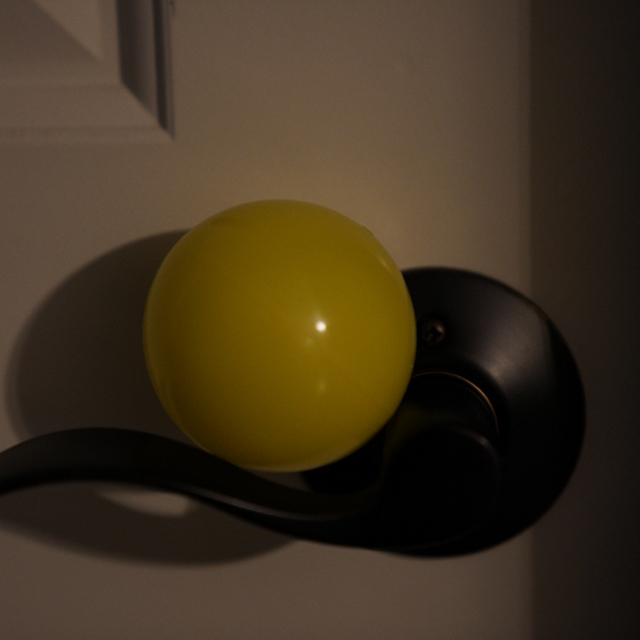Ball: (140, 202, 411, 463)
